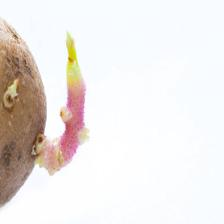Sprouted potato: (0, 10, 87, 212)
